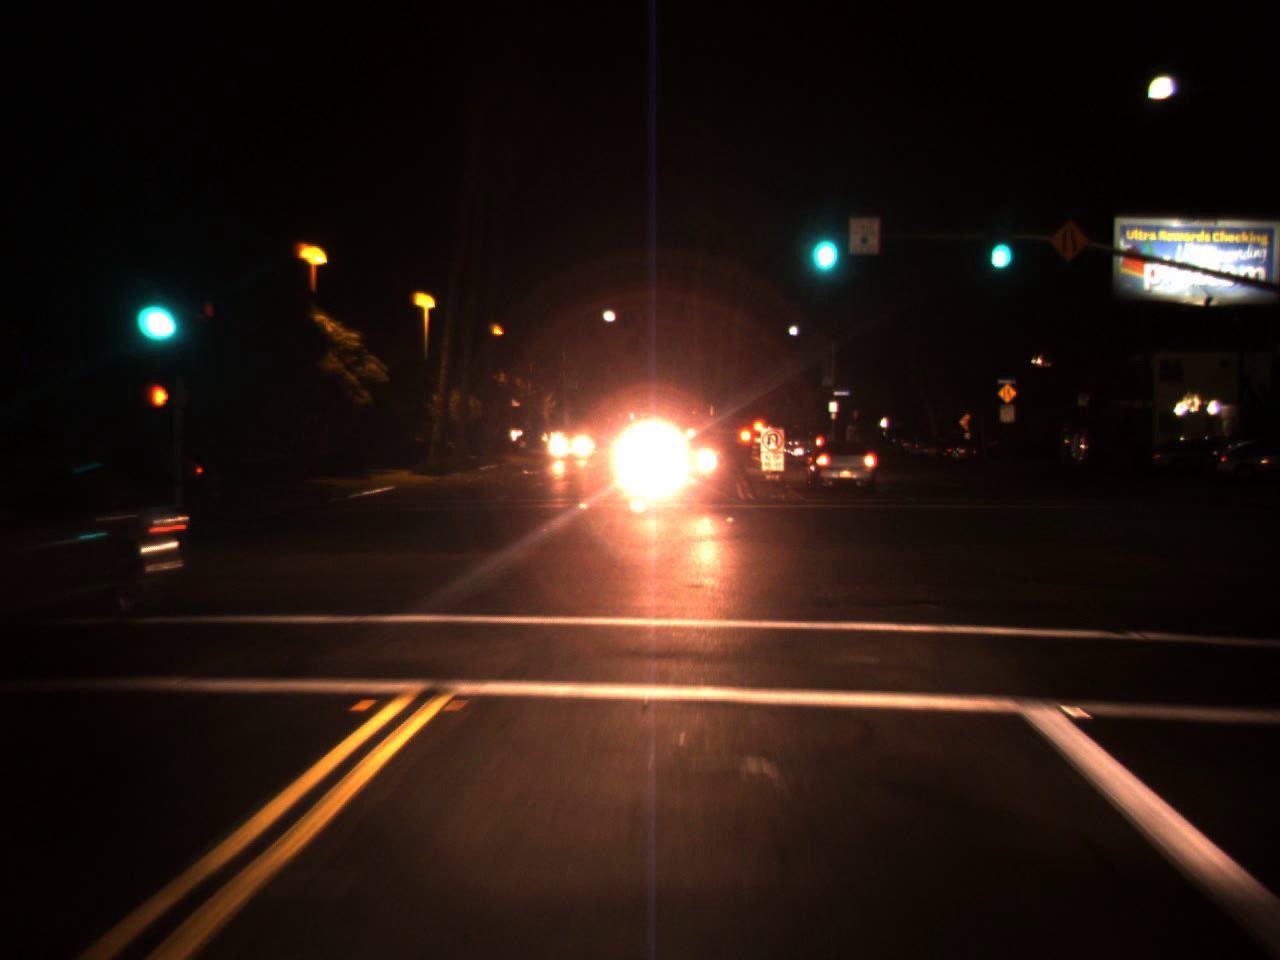go: (133, 268, 179, 352), (801, 200, 844, 284), (983, 216, 1015, 276)
